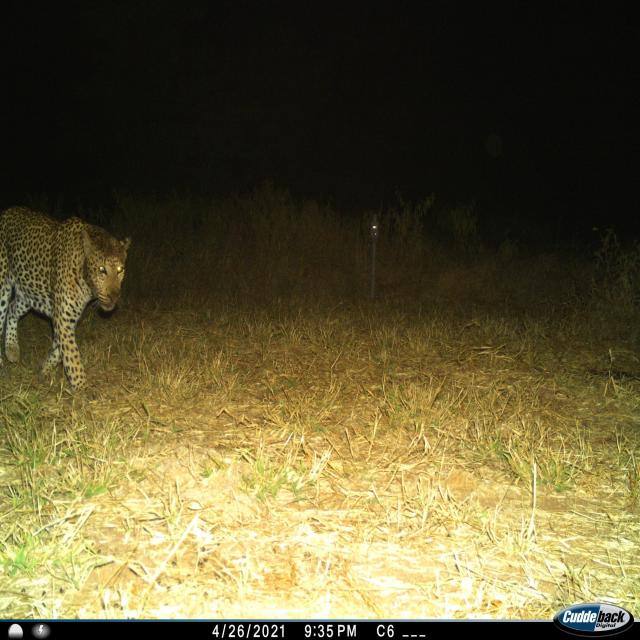Leopard: (0, 187, 124, 414)
